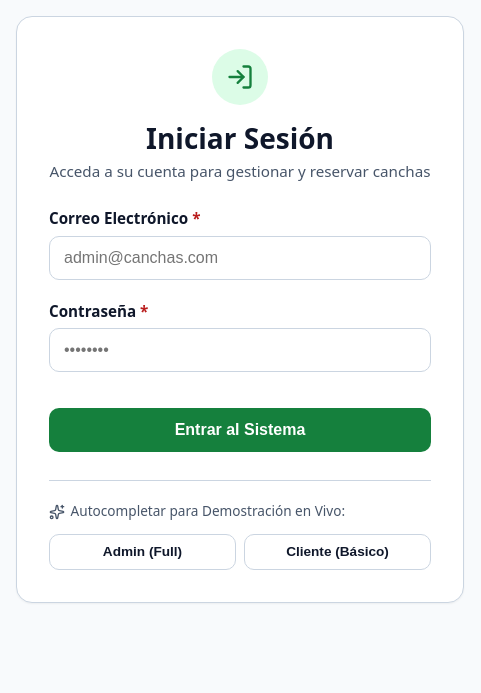
Test: Componente Login › debe validar en cliente formato de correo electrónico inválido
Type "correo-invalido" into the field labelled "Correo Electrónico *" at {"x": 240, "y": 258}, box [49,236,431,280]
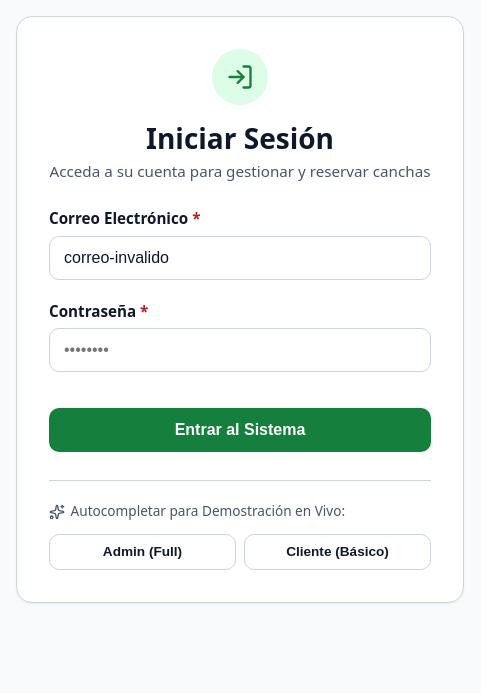
Click the button "Entrar al Sistema" at {"x": 240, "y": 430}, box [49,408,431,452]
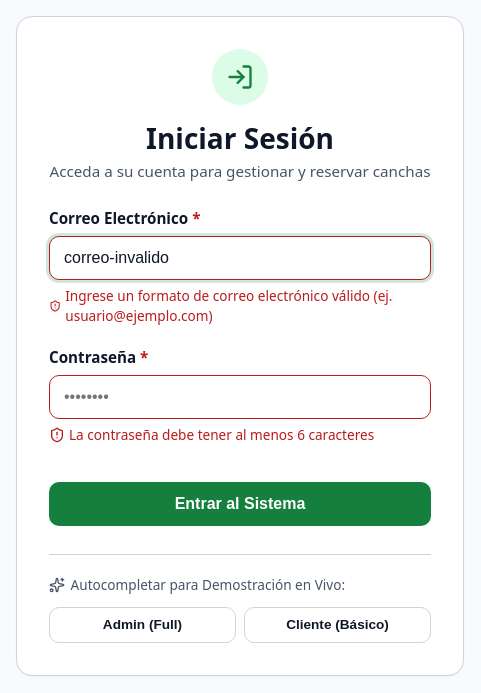
Result: the text "Ingrese un formato de correo electrónico válido (ej. usuario@ejemplo.com)" is shown at [49,286,431,326]
